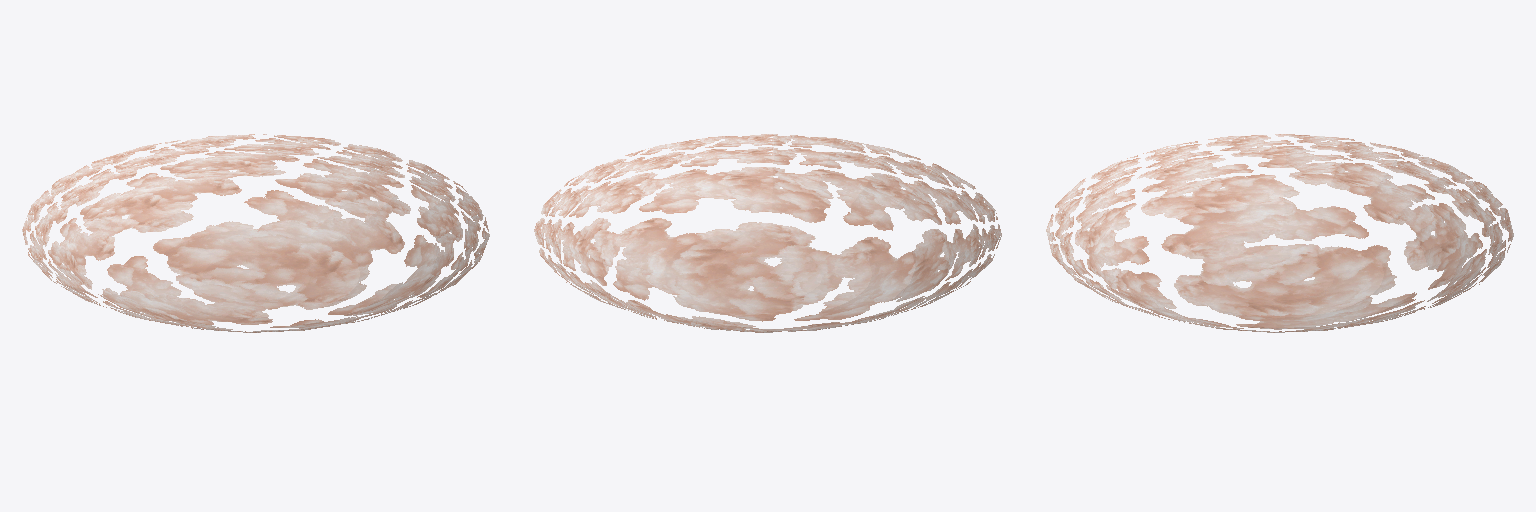
3 views of the same model, side by side, from view 1: azimuth 30°, elevation 25°; view 2: azimuth 150°, elevation 25°; view 3: azimuth 270°, elevation 25° (orthographic).
Bounding box in the file's own units: 19866 × 2169 × 19866.
Materials: 1 (1 with a texture image).